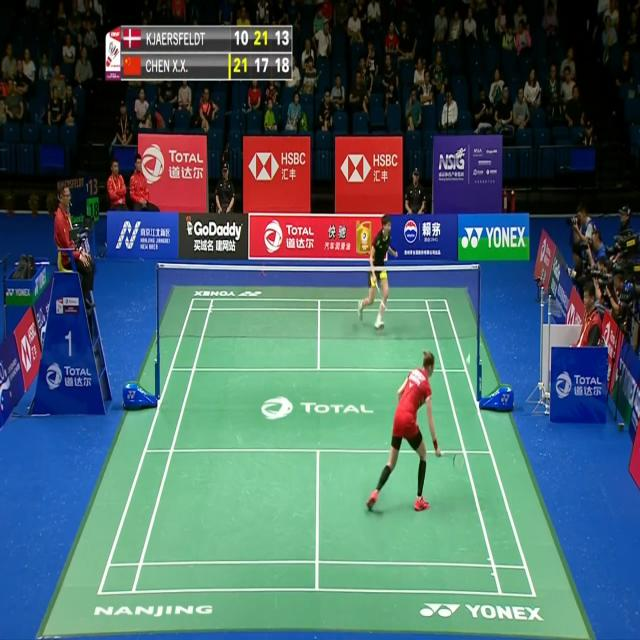Player1: (364, 347, 468, 521)
Player2: (358, 207, 402, 333)
